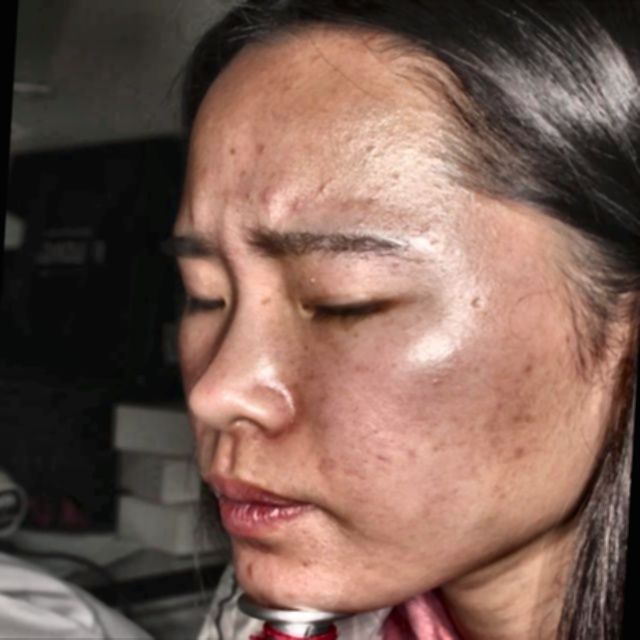comedone: (232, 556, 271, 580)
